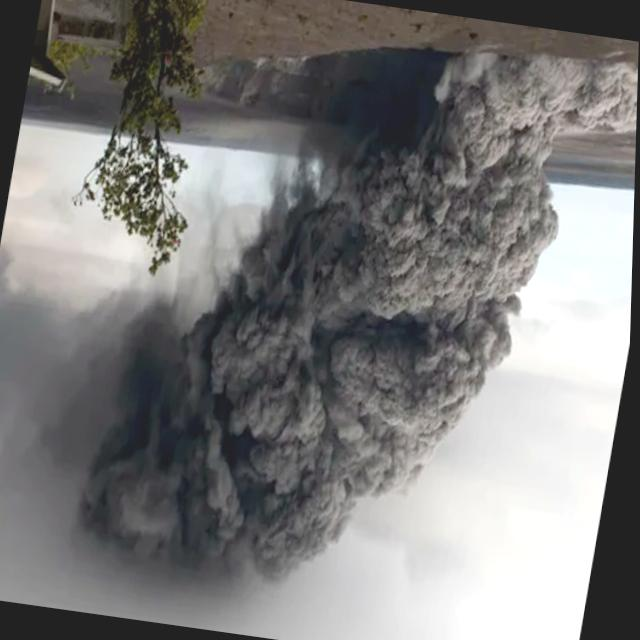Smoke: (73, 15, 585, 640)
